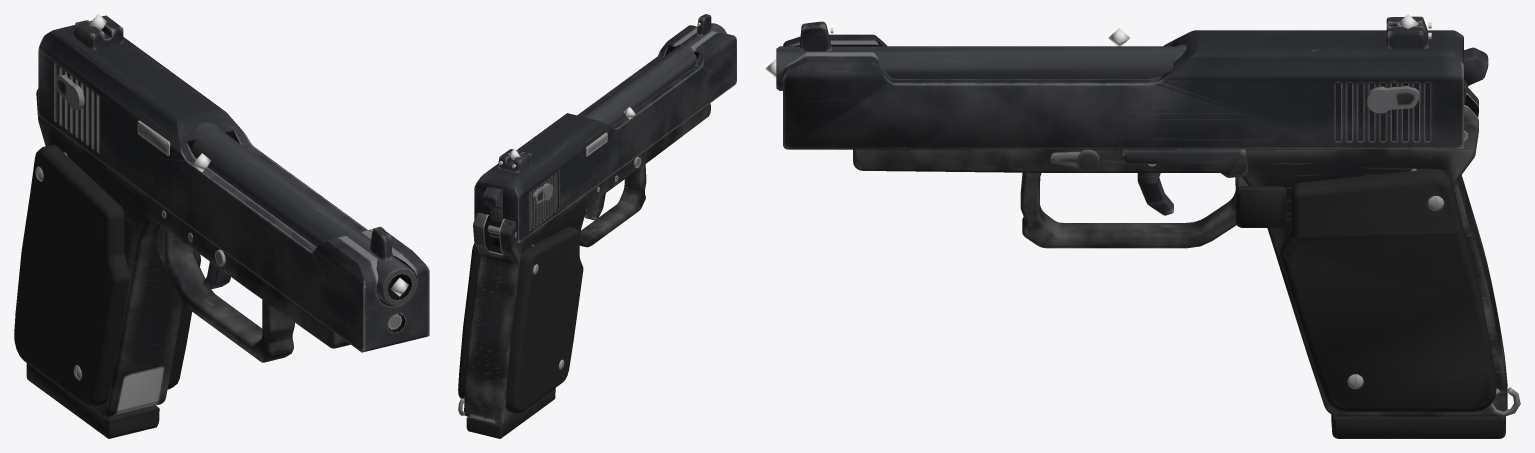
Rendered from LightPistol_A_M9.fbx.
3 views of the same model, side by side, from view 1: azimuth 30°, elevation 25°; view 2: azimuth 150°, elevation 25°; view 3: azimuth 270°, elevation 25° (orthographic). The views are drawn at different scales.
Parts seen in each view (by area): view 1: Handle, Slide, Magazine; view 2: Handle, Slide, Magazine; view 3: Handle, Slide, Magazine.
Part boxes in pixels (box(x1,y1,x2,y2)): Handle: box(14, 89, 416, 416); Slide: box(38, 15, 429, 352); Magazine: box(26, 363, 159, 438); Handle: box(458, 23, 726, 424); Slide: box(474, 14, 736, 243); Magazine: box(466, 388, 555, 438); Handle: box(776, 44, 1520, 416); Slide: box(783, 16, 1463, 149); Magazine: box(1331, 414, 1505, 438).
Size of the model in its own units: 0.1222 by 0.4899 by 0.812.
Materials: 2 (1 with a texture image).
